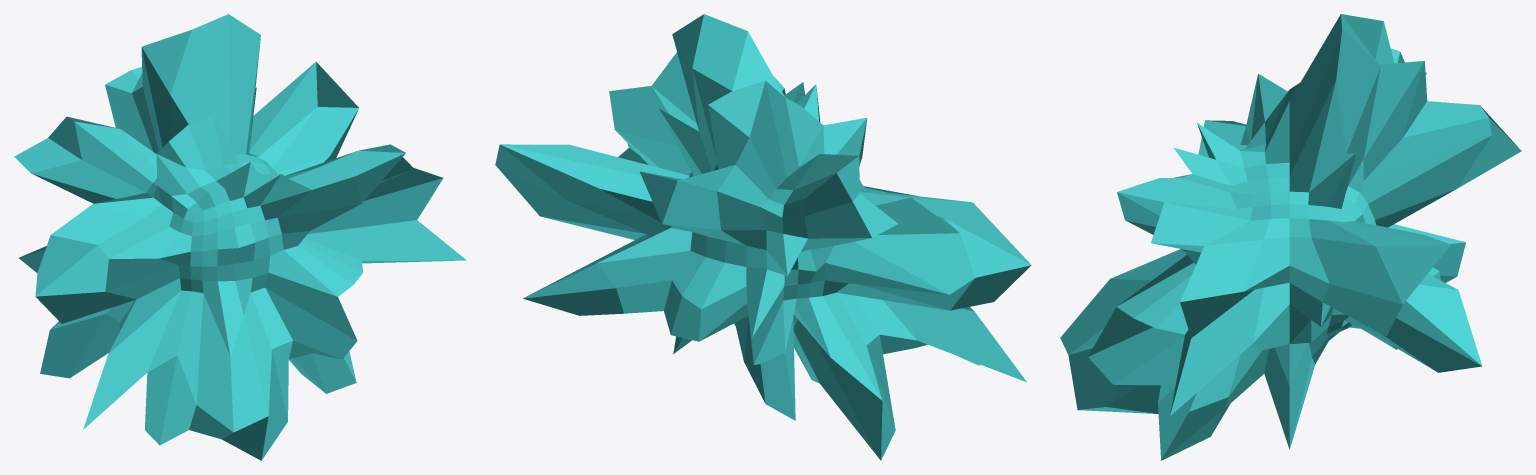
Rendered from IceComet.dae.
The picture shows the model from 3 angles, left to right: view 1: azimuth 30°, elevation 25°; view 2: azimuth 150°, elevation 25°; view 3: azimuth 270°, elevation 25°; orthographic projection. The views are drawn at different scales.
Parts seen in each view (by area): view 1: Cube; view 2: Cube; view 3: Cube.
Boxes of the visible parts, x1,y1,x2,y2 form: Cube: [14, 14, 466, 460]; Cube: [495, 14, 1031, 460]; Cube: [1060, 14, 1521, 460].
Bounding box in the file's own units: 2.01 × 1.62 × 1.65.
